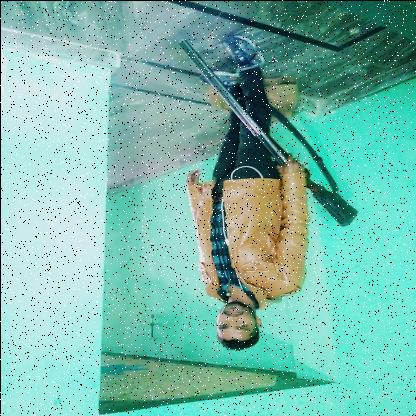rifle: (172, 34, 360, 228)
